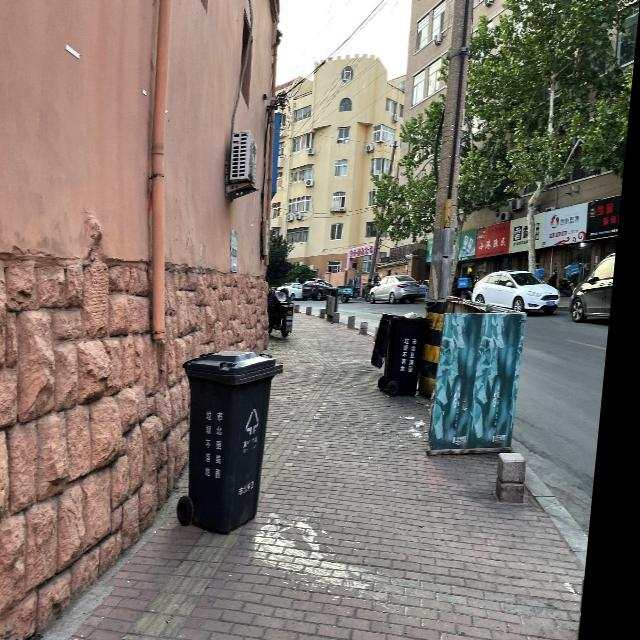garbage_bin: (177, 350, 291, 533)
overflow: (374, 310, 437, 395)
